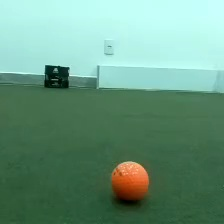ball: (108, 158, 152, 204)
goal: (94, 62, 224, 93)
robot: (41, 63, 70, 90)
